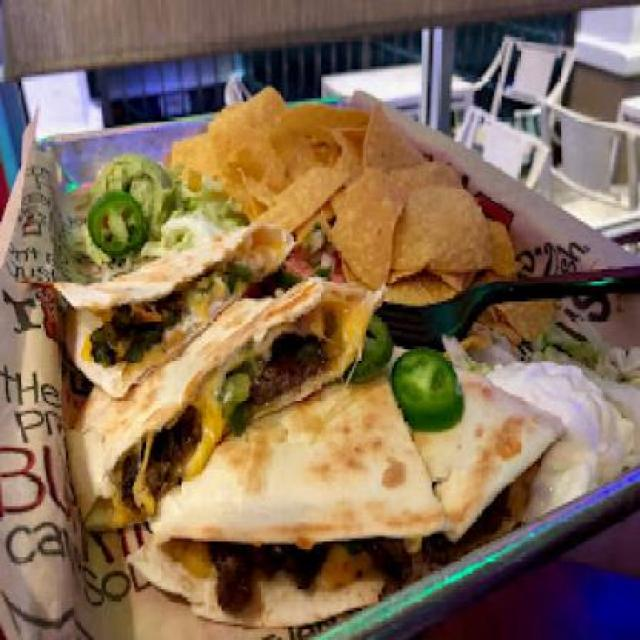chicken quesadilla: (52, 220, 566, 638)
guacamole: (48, 142, 244, 272)
nachos: (168, 74, 572, 343)
